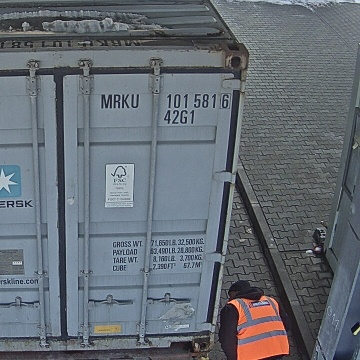serial_id: (101, 94, 229, 108)
